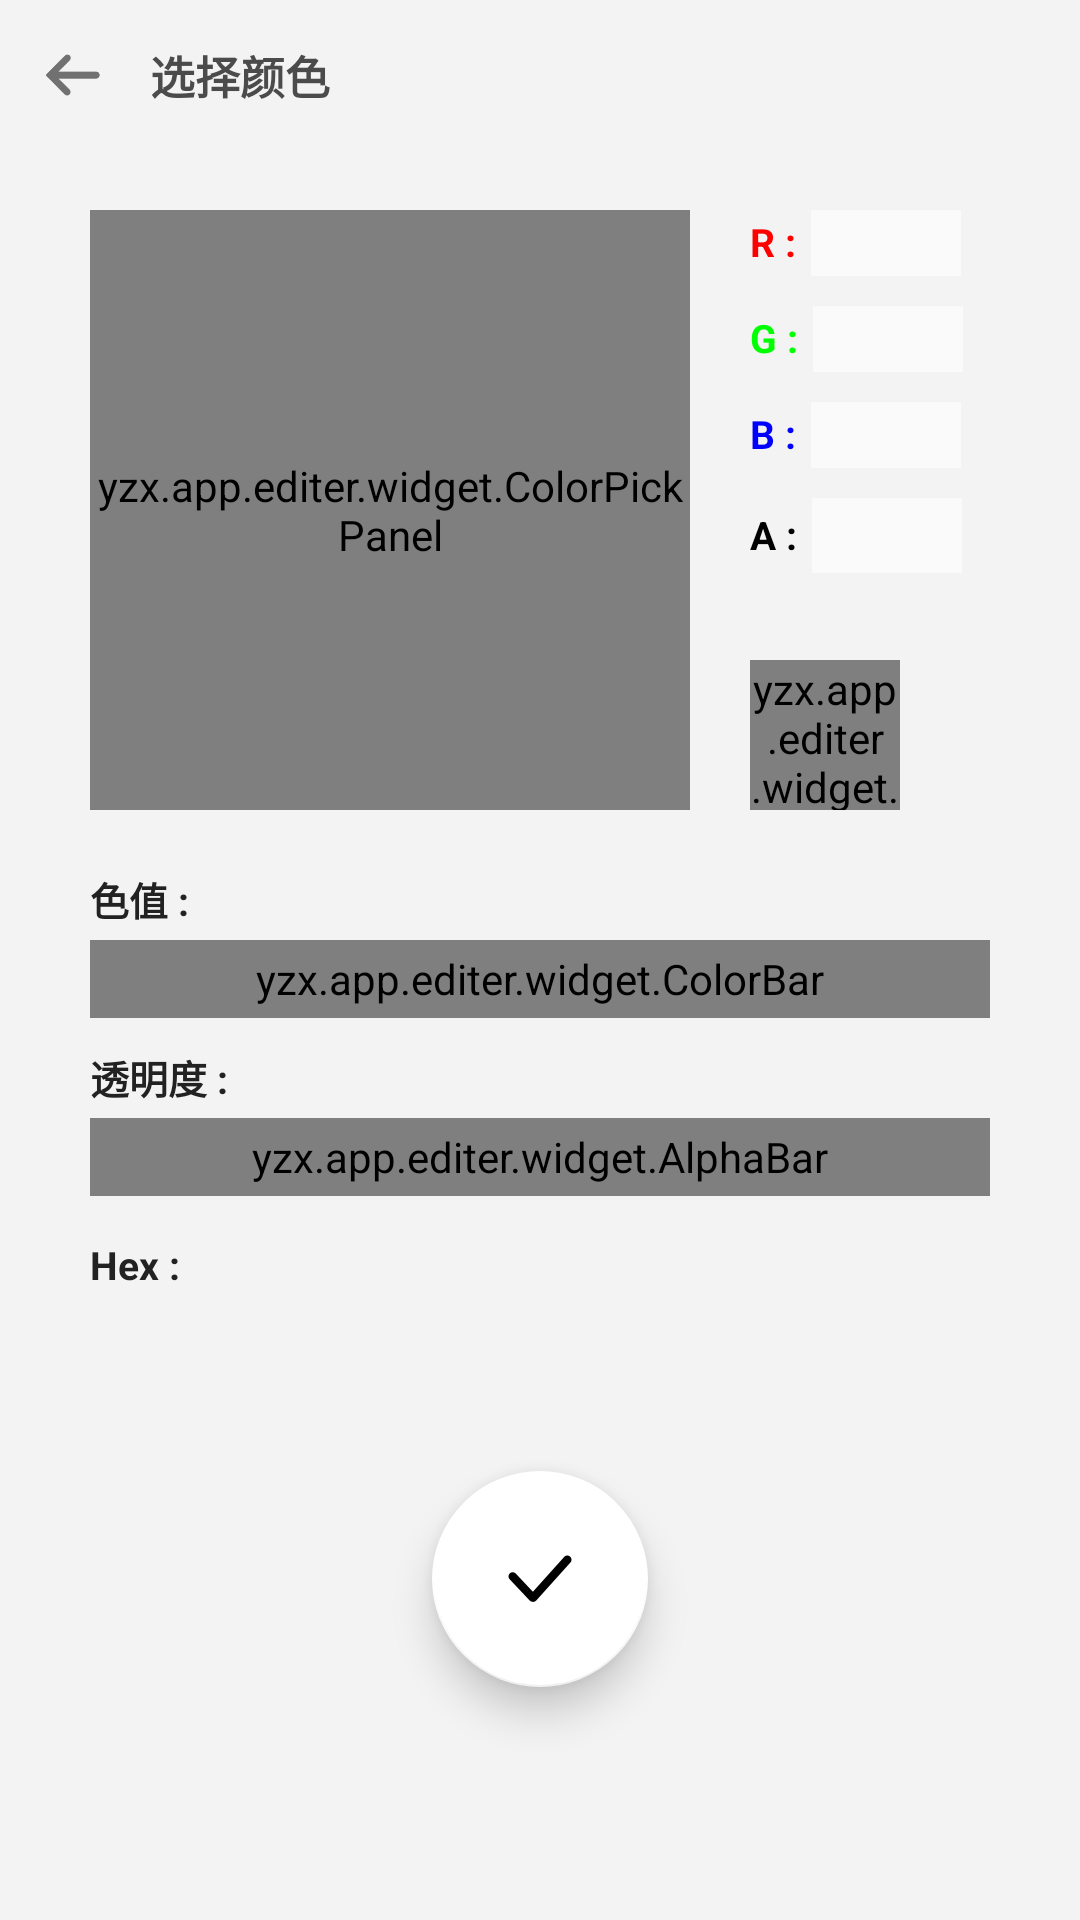

Where icons sit on this 1080×1920 app screen, as (x1, y1, x2, y2):
arrow back: (46, 54, 100, 96)
confirm right: (432, 1471, 648, 1687)
